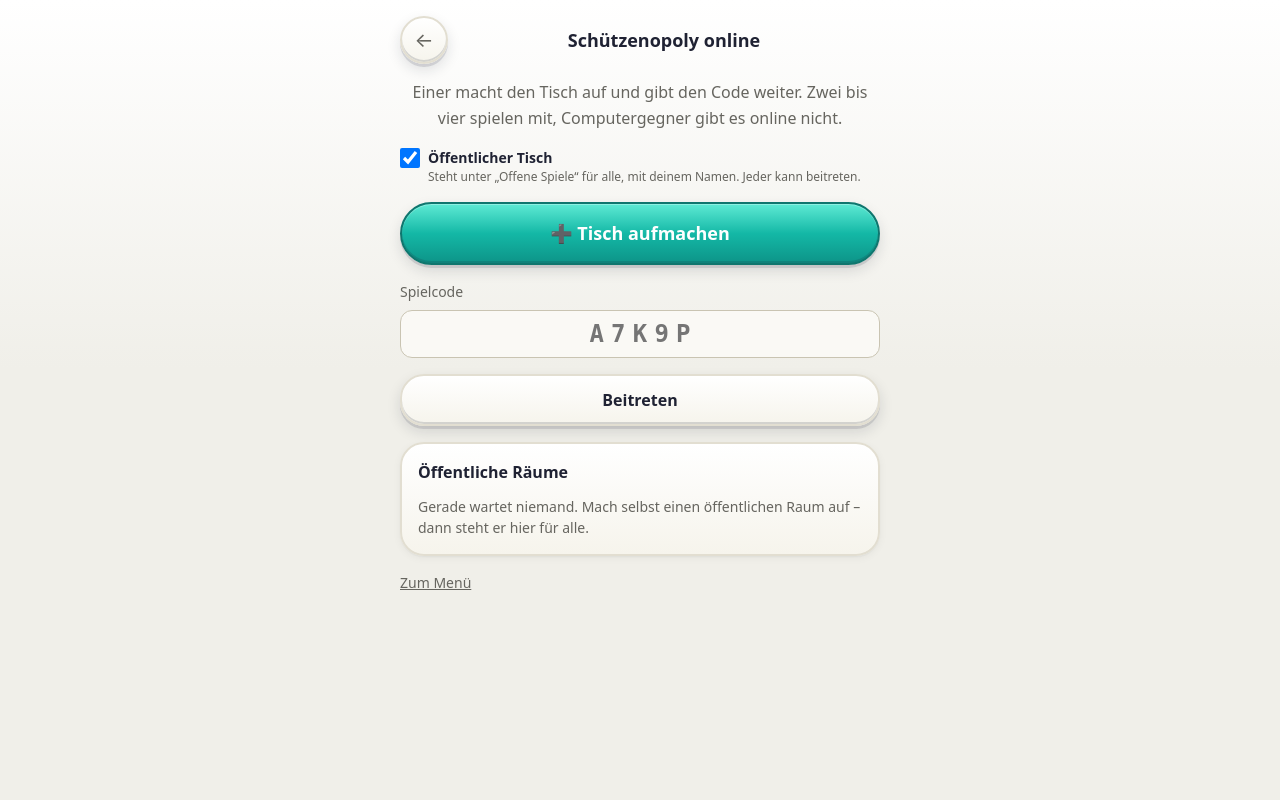
Test case: Schützenopoly online › lässt mich nichts anfassen, wenn ein anderer dran ist
What coordinates should you click on to do the following:
click the button "➕ Tisch aufmachen"
I would click on:
 (640, 234)
Its box is [400,202,880,265].
(page scrolled)
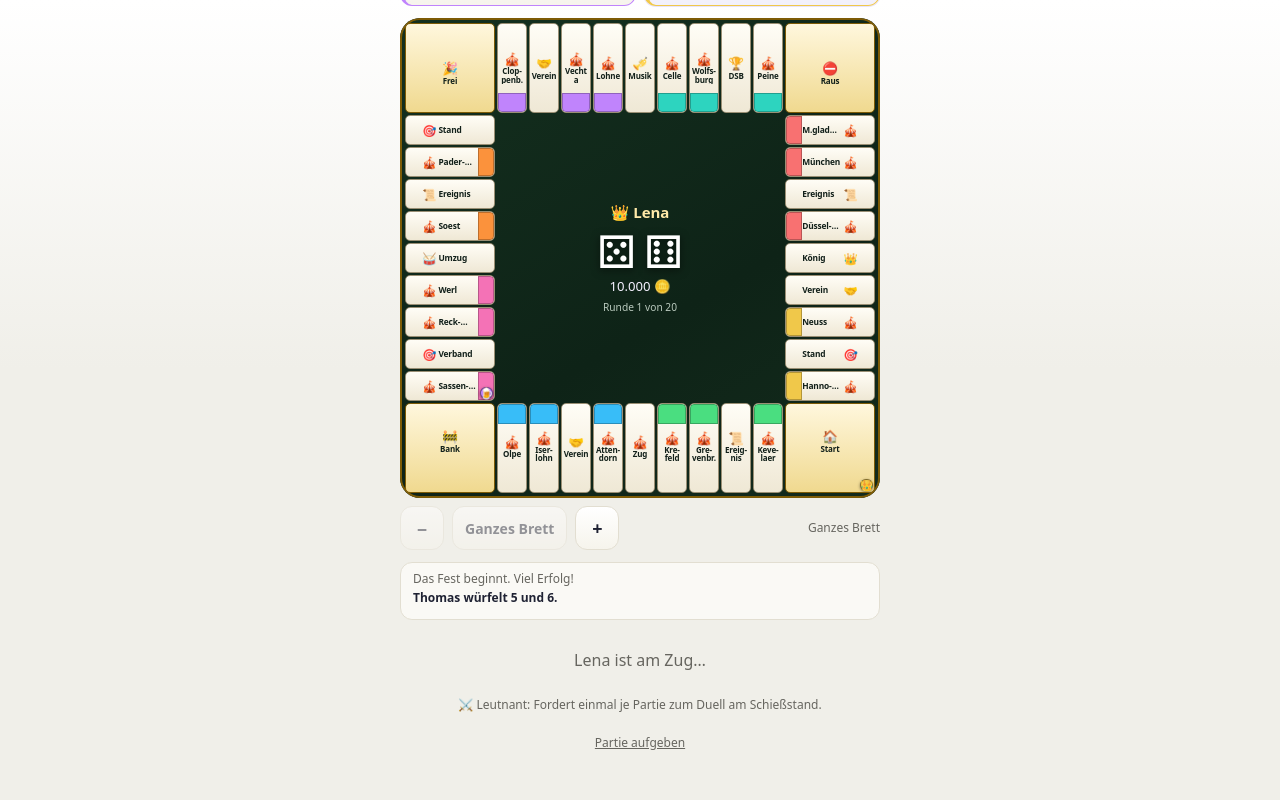
expect the text "Lena ist am Zug…" is shown: met, box [574,649,706,671]
